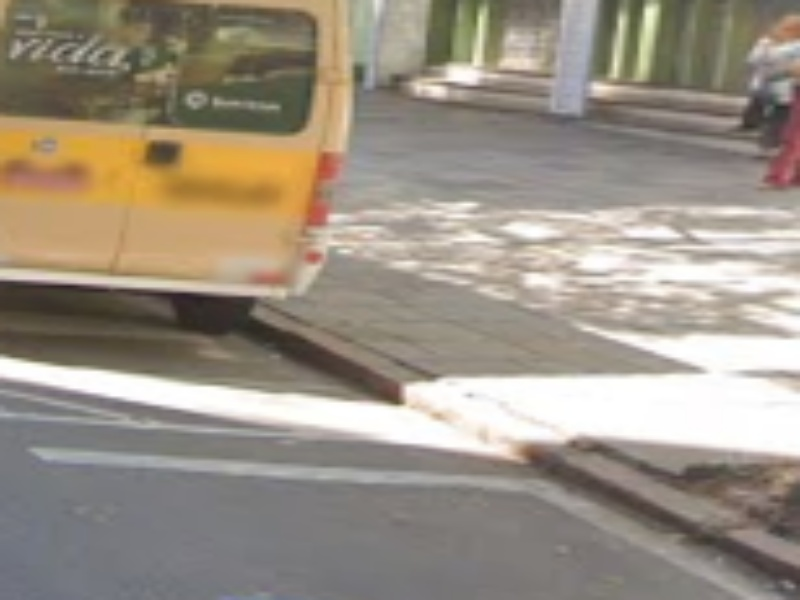v40: (213, 334, 790, 581)
